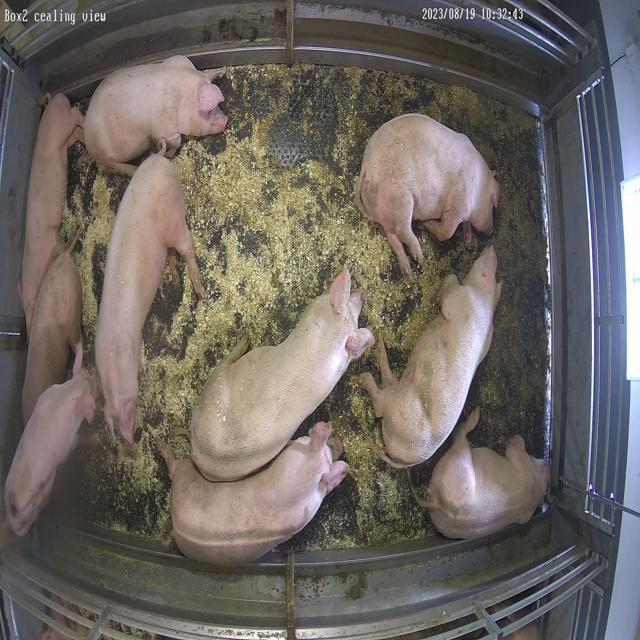Dirt: (451, 92, 550, 458), (247, 66, 379, 178)
Pig: (192, 268, 374, 482), (95, 154, 204, 450), (359, 246, 503, 468), (160, 424, 349, 566), (358, 113, 501, 274), (4, 344, 97, 538), (420, 408, 551, 540), (85, 55, 228, 174), (18, 93, 83, 334), (22, 236, 81, 422)
